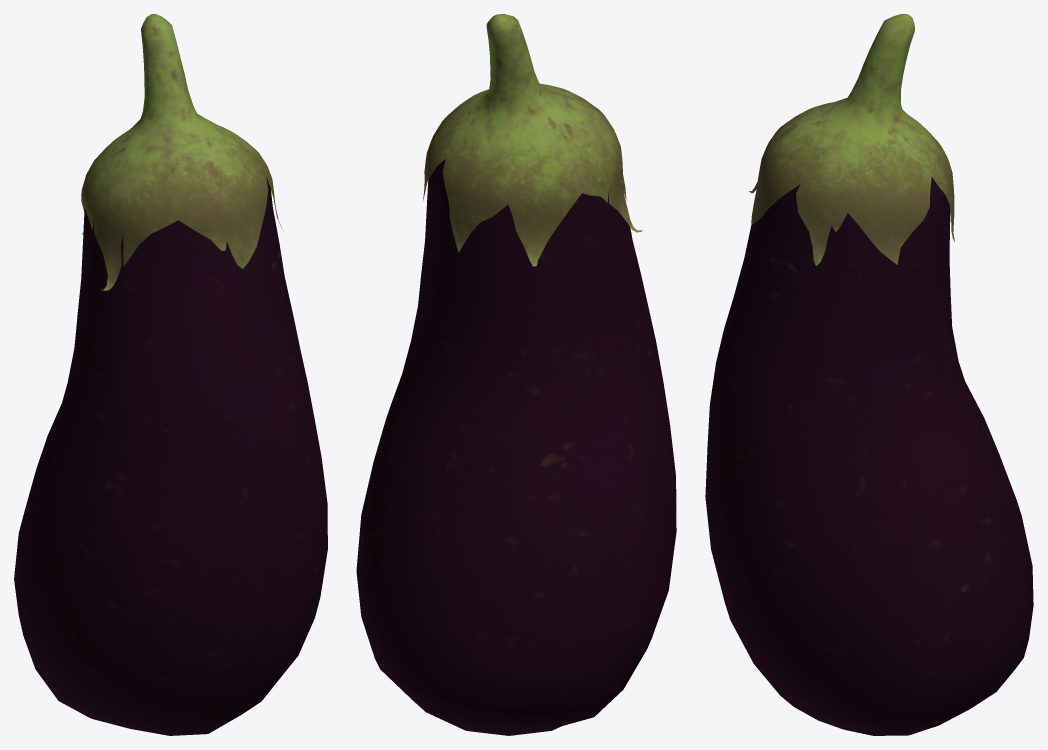
The model's file is eggplant.glb.
The picture shows the model from 3 angles, left to right: view 1: azimuth 30°, elevation 25°; view 2: azimuth 150°, elevation 25°; view 3: azimuth 270°, elevation 25°; orthographic projection.
Parts seen in each view (by area): view 1: eggplant.body, eggplant.top; view 2: eggplant.body, eggplant.top; view 3: eggplant.body, eggplant.top.
Boxes of the visible parts, bbox=[...] form: eggplant.body: bbox=[14, 177, 327, 735]; eggplant.top: bbox=[81, 14, 283, 290]; eggplant.body: bbox=[356, 159, 676, 735]; eggplant.top: bbox=[423, 14, 642, 266]; eggplant.body: bbox=[705, 176, 1033, 735]; eggplant.top: bbox=[749, 14, 954, 265].
Size of the model in its own units: 0.0917 by 0.2277 by 0.0961.
2 materials, 2 textured.
